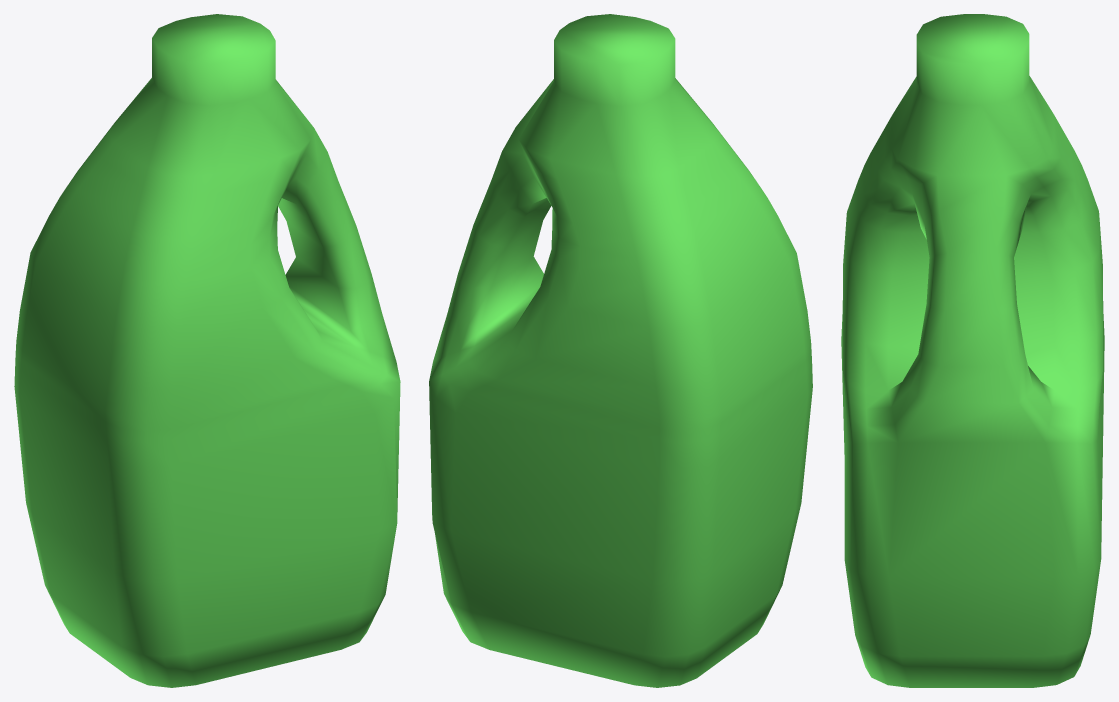
The model's file is detersivo.fbx.
3 renders of one model, left to right at view 1: azimuth 30°, elevation 25°; view 2: azimuth 150°, elevation 25°; view 3: azimuth 270°, elevation 25°, orthographic.
Parts seen in each view (by area): view 1: Detersivo3; view 2: Detersivo3; view 3: Detersivo3.
Part boxes in pixels (bbox=[...]): Detersivo3: bbox=[14, 14, 400, 687]; Detersivo3: bbox=[429, 14, 812, 687]; Detersivo3: bbox=[841, 14, 1104, 687].
Bounding box in the file's own units: 241 × 460 × 185.
